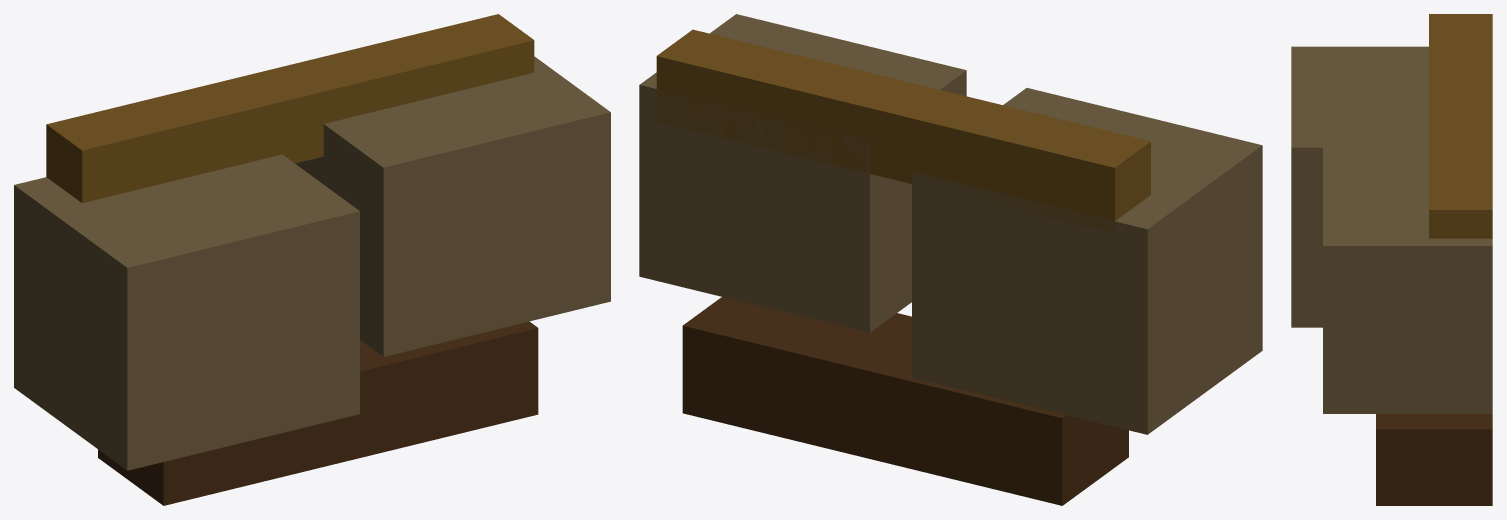
File: SM_AnduinSupplyBundle.obj
3 renders of one model, left to right at view 1: azimuth 30°, elevation 25°; view 2: azimuth 150°, elevation 25°; view 3: azimuth 270°, elevation 25°, orthographic. The views are drawn at different scales.
Parts seen in each view (by area): view 1: SM_AnduinSupplyBundle; view 2: SM_AnduinSupplyBundle; view 3: SM_AnduinSupplyBundle.
Boxes of the visible parts, x1,y1,x2,y2 form: SM_AnduinSupplyBundle: (14, 14, 610, 505); SM_AnduinSupplyBundle: (639, 14, 1262, 505); SM_AnduinSupplyBundle: (1291, 14, 1492, 505).
Size of the model in its own units: 194 by 128 by 76.
